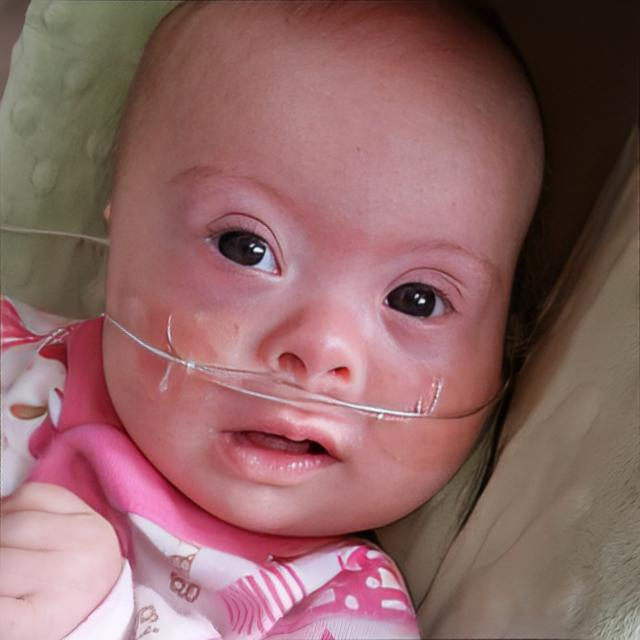surprise: (100, 0, 550, 533)
